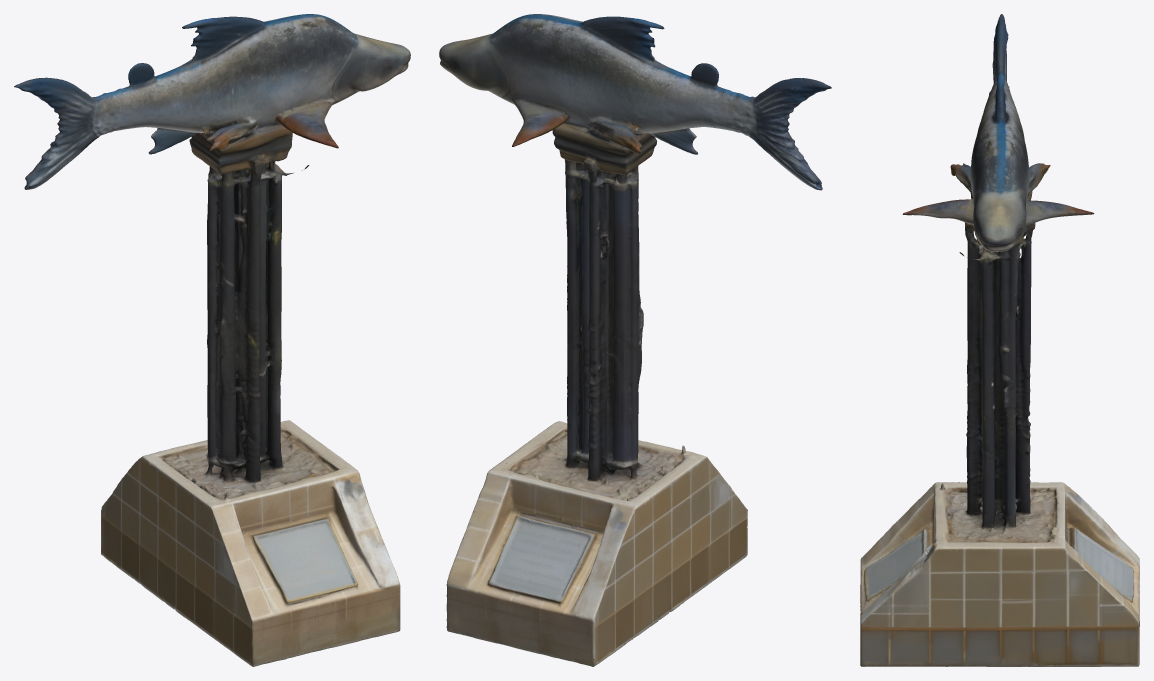
Rendered from Meshy_AI_Fish_Statue_on_a_Pill_0526120936_texture.glb.
3 views of the same model, side by side, from view 1: azimuth 30°, elevation 25°; view 2: azimuth 150°, elevation 25°; view 3: azimuth 270°, elevation 25° (orthographic). The views are drawn at different scales.
Size of the model in its own units: 1.4 by 2 by 0.9483.
Materials: 1 (1 with a texture image).
